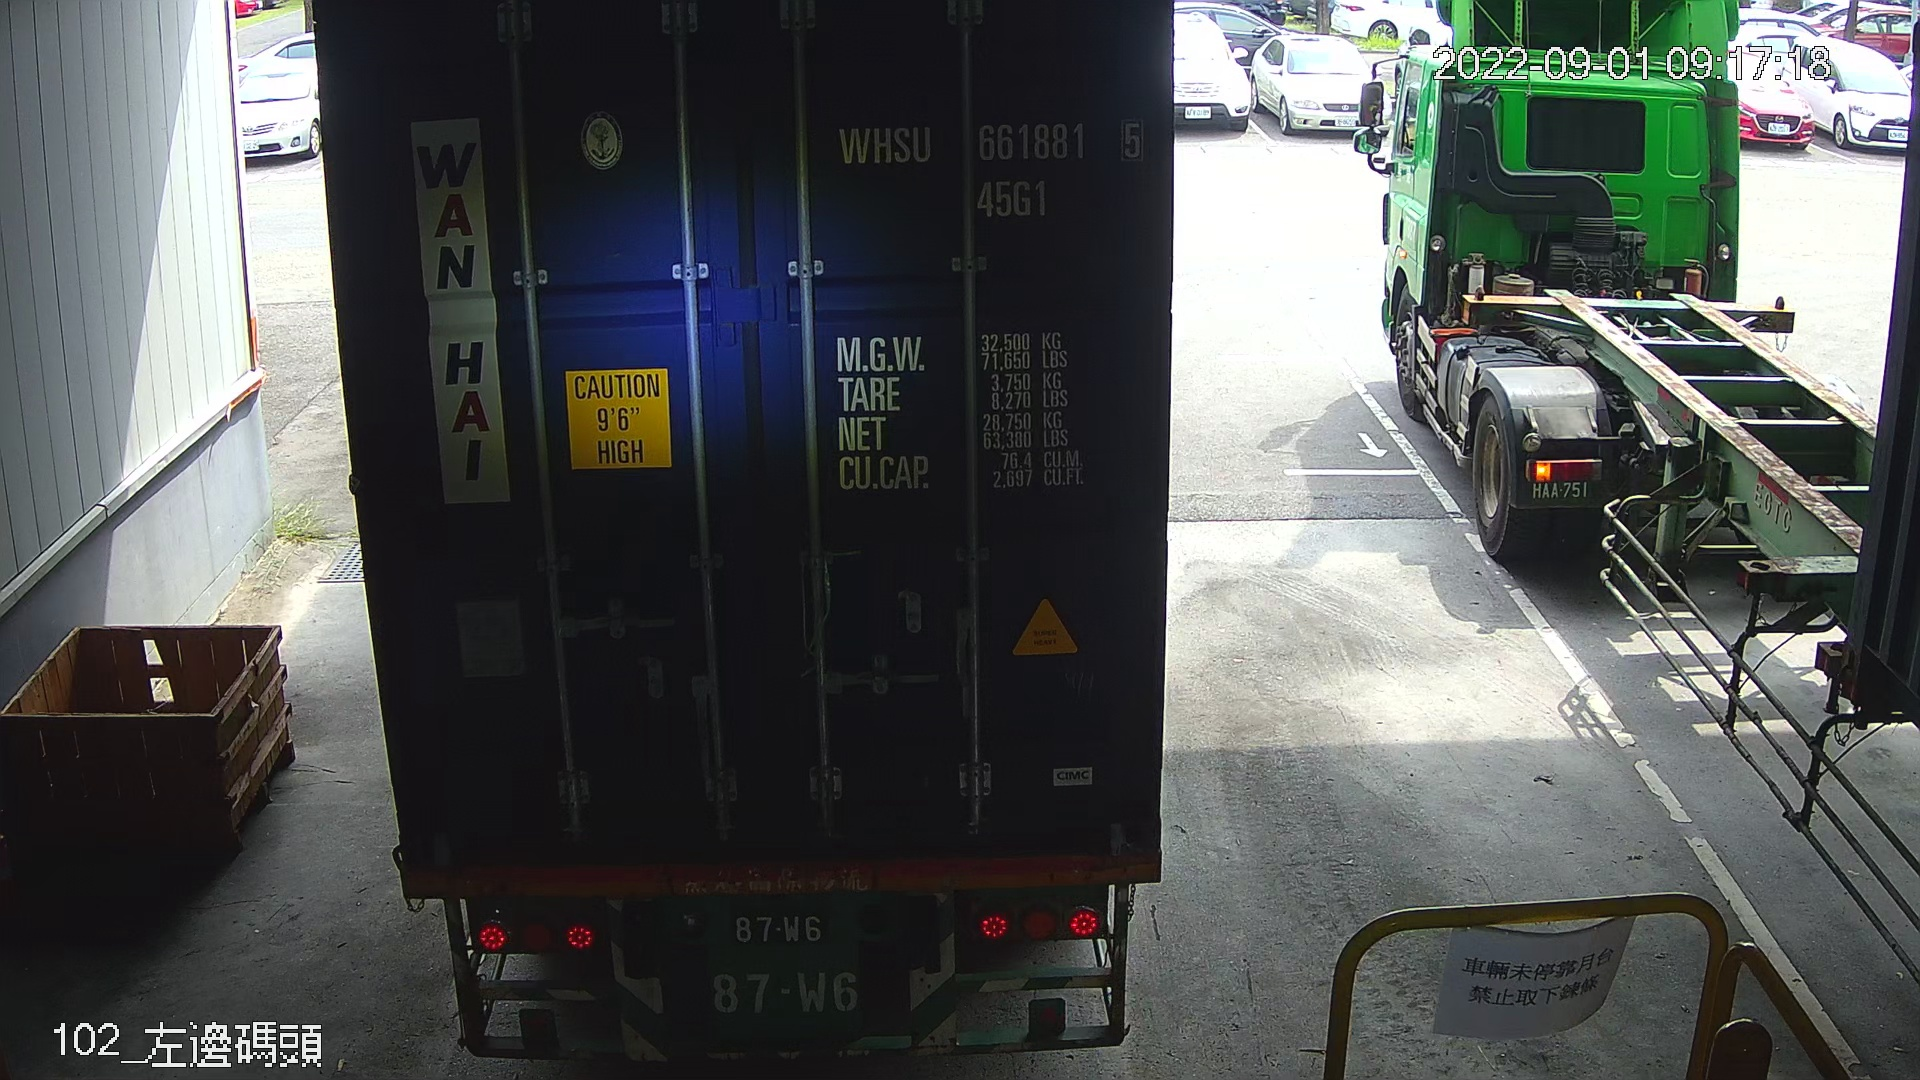container: (820, 107, 1156, 232)
